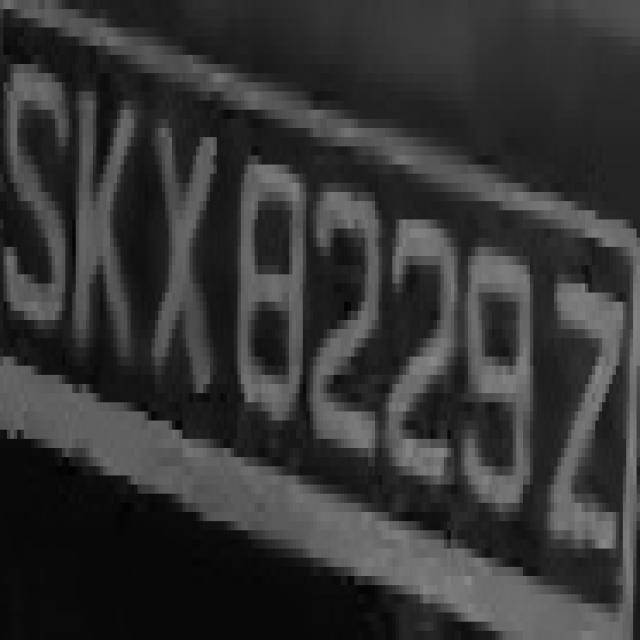2: (382, 192, 471, 549), (306, 128, 389, 494)
8: (227, 73, 303, 466)
9: (461, 174, 540, 530)
K: (65, 55, 138, 420)
S: (7, 28, 72, 356)
X: (154, 73, 223, 439)
Z: (550, 201, 623, 594)
